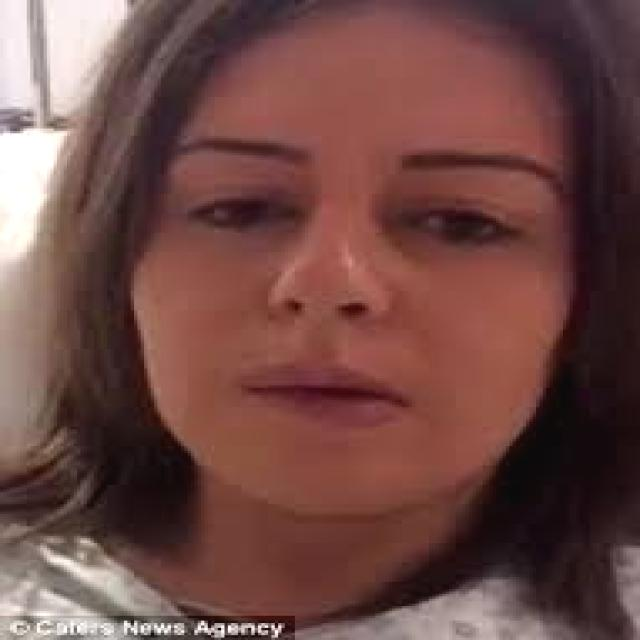stroke_face: (88, 13, 632, 530)
